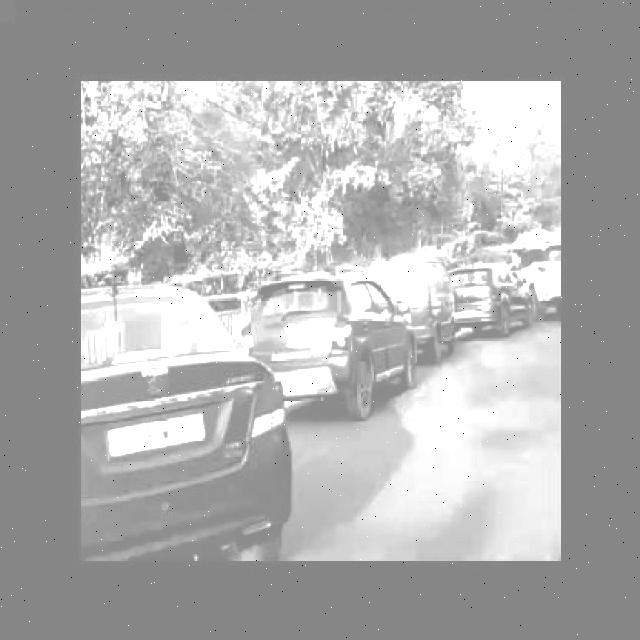Car: (82, 268, 286, 572), (261, 266, 397, 396), (392, 242, 458, 378), (457, 257, 528, 338), (526, 235, 563, 318)
